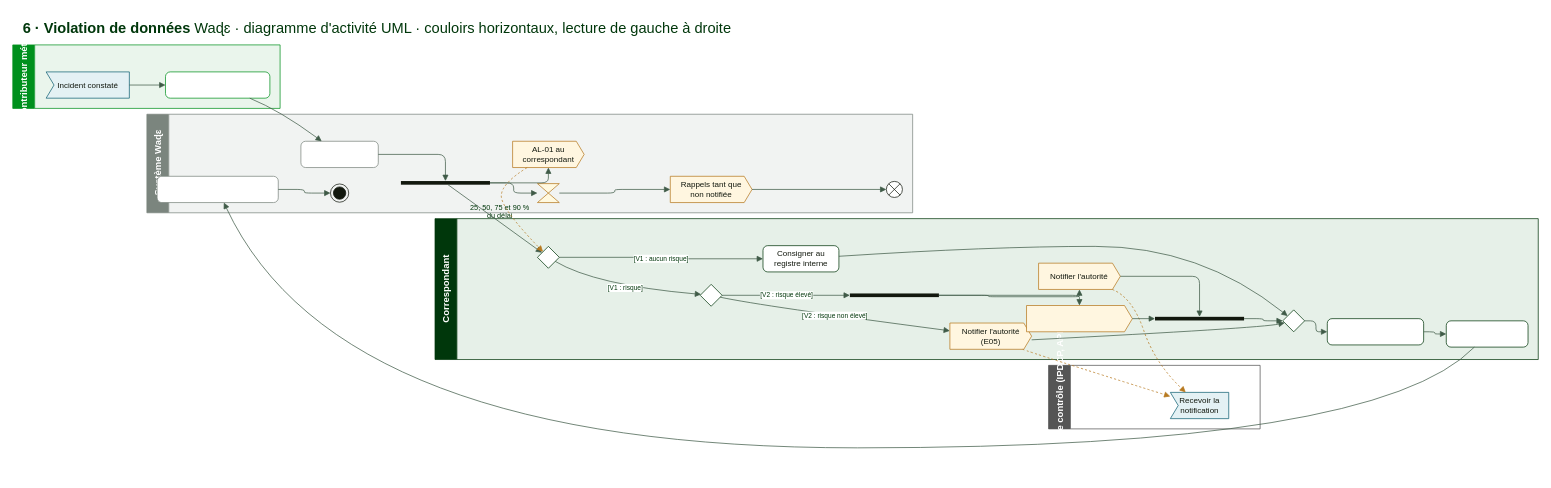
Image size: 1551x488. Some labels were removed from this diagram. Here are the shapes that lost their labels. From the top down, the centre of each, then its label:
At [217,84]: "Déclarer la violation (y compris sur mobile)".
At [339,154]: "Fixer l'échéance à 72 heures".
At [217,189]: "Mettre à jour l'indice (traitement des violations)".
At [1079,318]: "Informer les personnes concernées".
At [1375,331]: "Mettre en œuvre les mesures correctives".
At [1487,333]: "Clore la violation".
